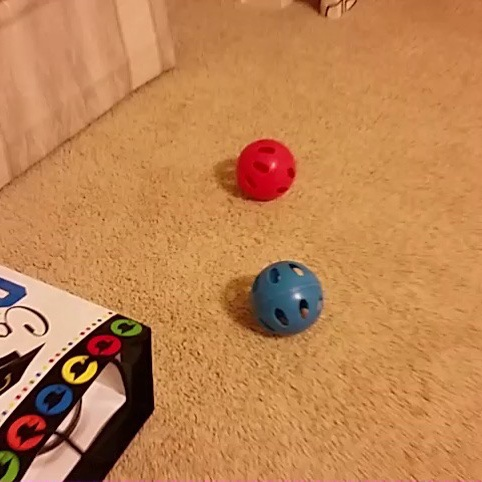ball: (245, 257, 328, 339), (231, 136, 300, 205)
